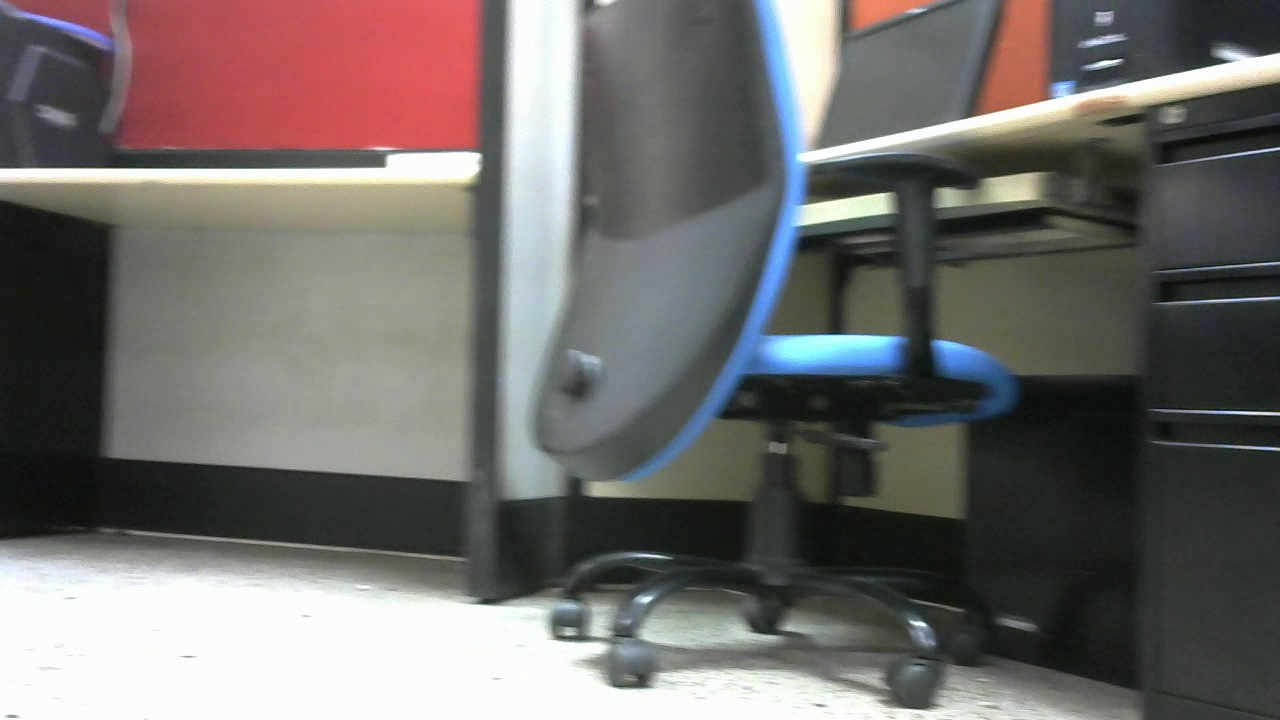chair: (527, 1, 1022, 707)
